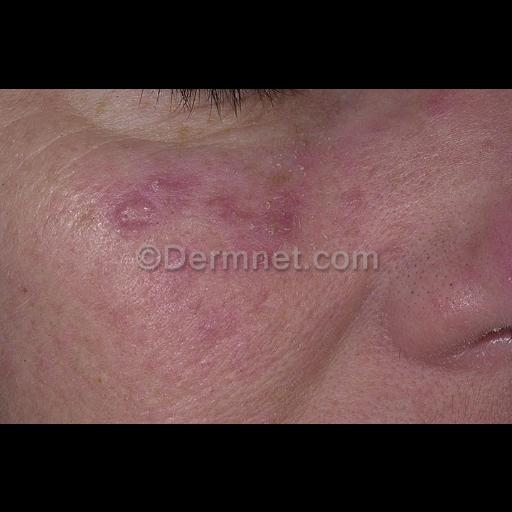Skin_Lesion: (109, 170, 187, 242), (254, 178, 306, 248), (200, 186, 242, 222), (470, 322, 510, 350), (268, 306, 294, 336), (341, 188, 375, 208), (318, 228, 336, 248), (502, 268, 512, 290)
